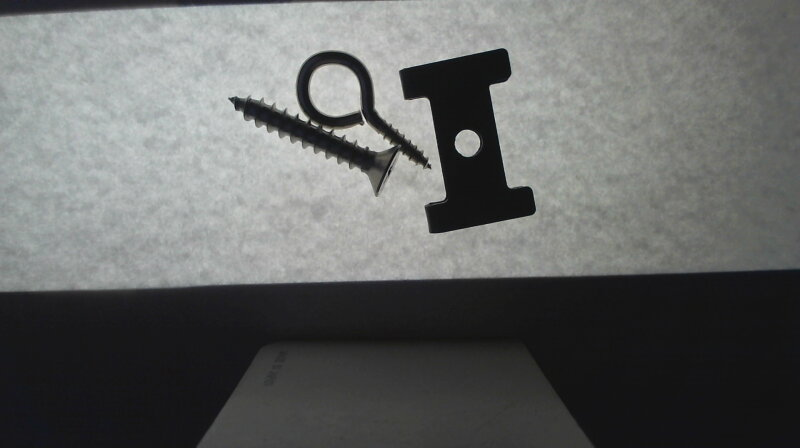O001: (292, 48, 434, 174)
O002: (399, 47, 537, 235)
S001: (224, 92, 405, 197)
